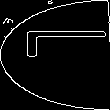L_E: (5, 40, 105, 70)
